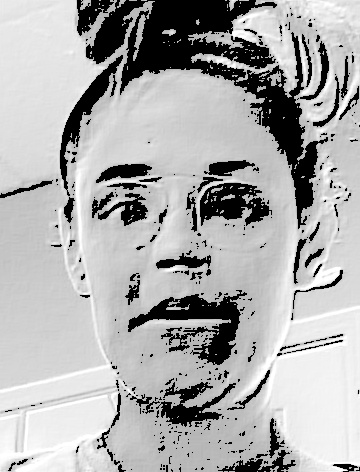nose_M_C: (148, 211, 215, 291)
